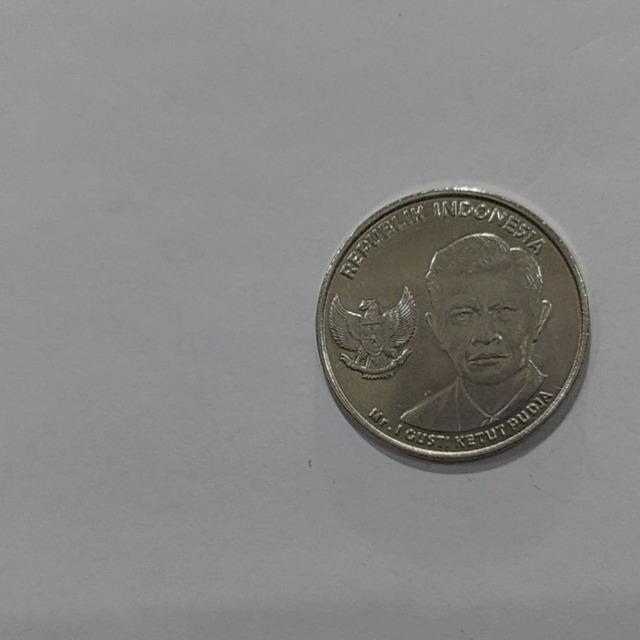Rp100: (315, 185, 591, 465), (393, 228, 556, 438)
